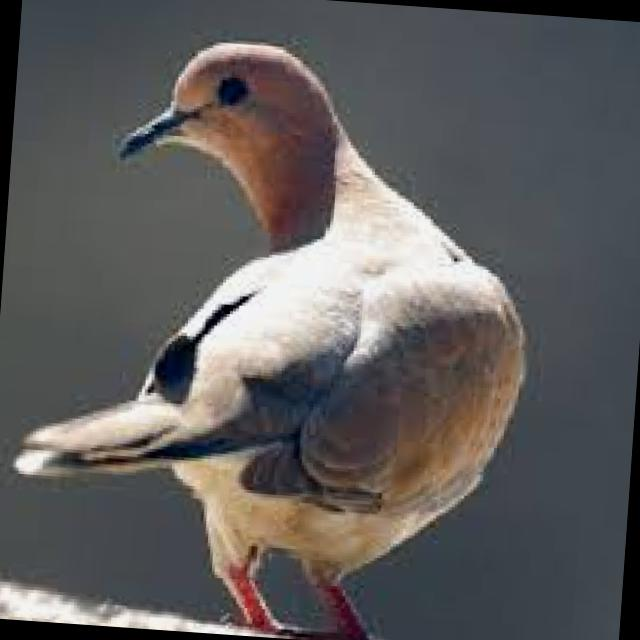bird: (0, 10, 557, 640)
